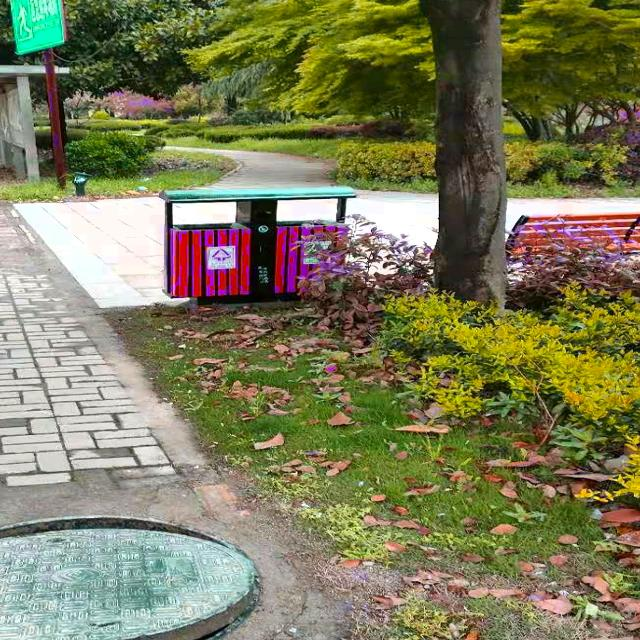uncovered: (0, 492, 287, 640)
